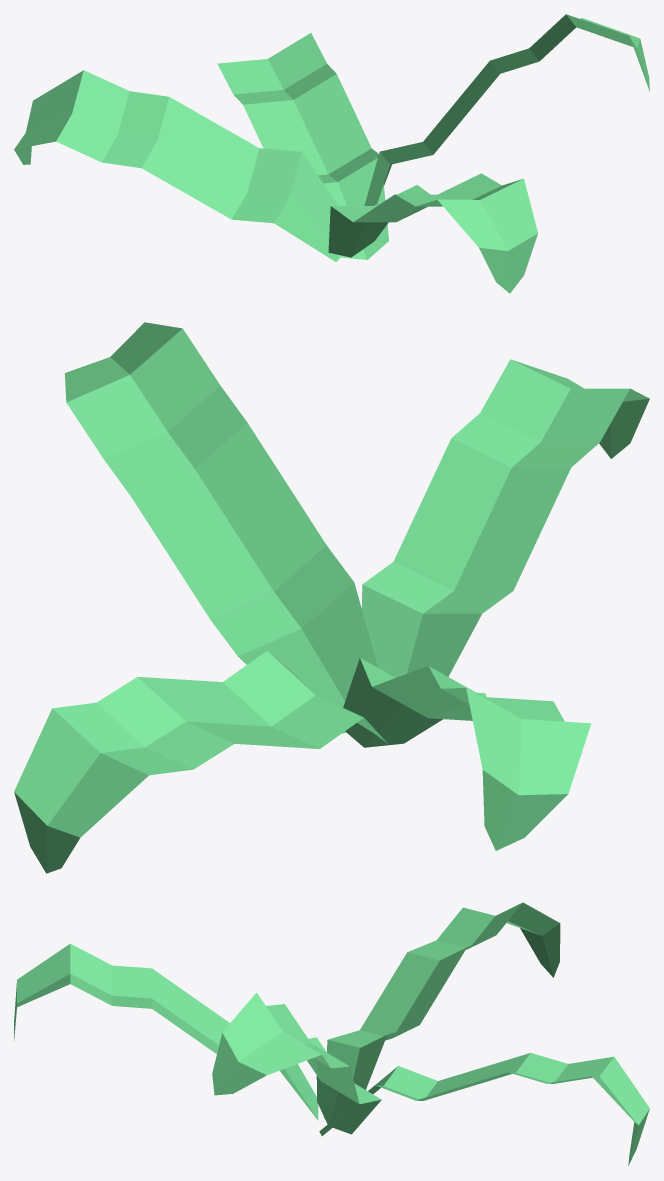
File: planta_1.fbx
The picture shows the model from 3 angles, top to bottom: view 1: azimuth 30°, elevation 25°; view 2: azimuth 150°, elevation 25°; view 3: azimuth 270°, elevation 25°; orthographic projection. The views are drawn at different scales.
Parts seen in each view (by area): view 1: planta 1; view 2: planta 1; view 3: planta 1.
Boxes of the visible parts, x1,y1,x2,y2 form: planta 1: (14,14,649,293); planta 1: (14,322,649,873); planta 1: (14,902,649,1165).
Size of the model in its own units: 238 by 106 by 276.
